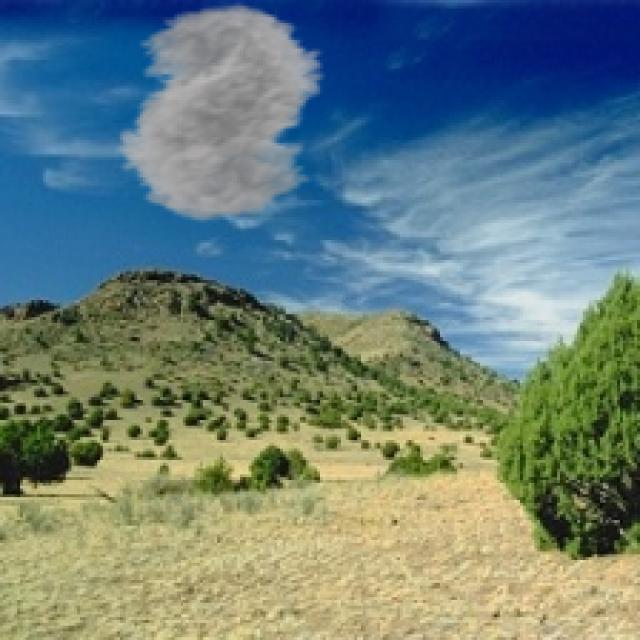Smoke: (97, 3, 352, 223)
